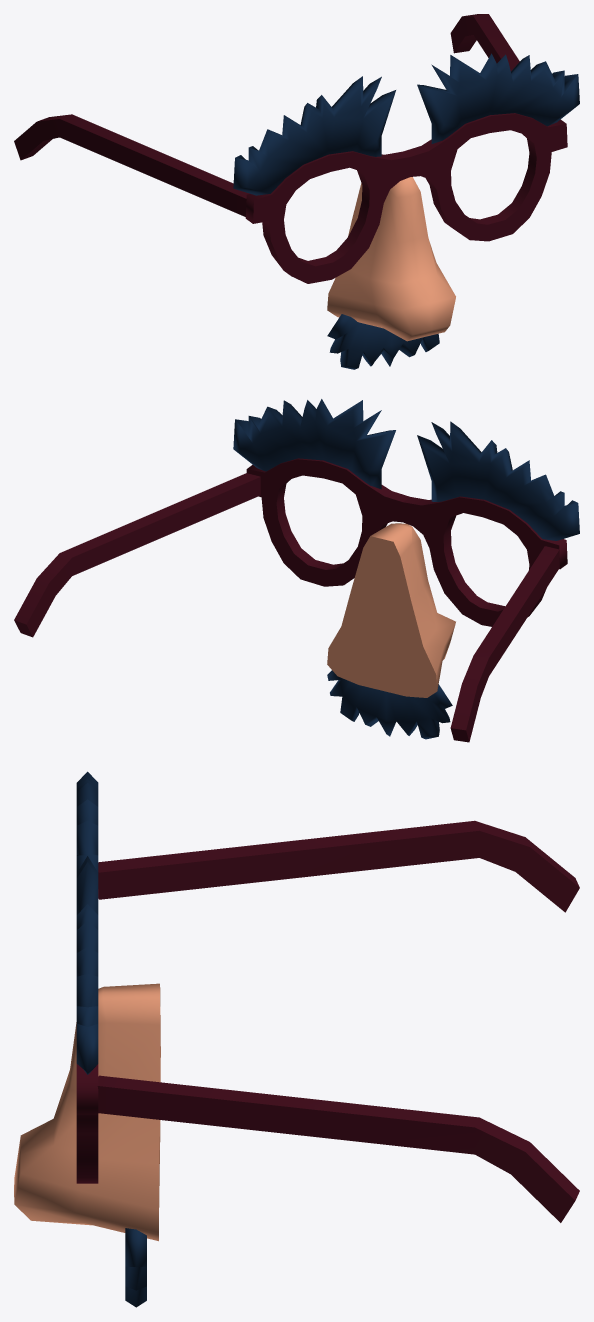
Rendered from Glasses_with_nose.fbx.
The picture shows the model from 3 angles, top to bottom: view 1: azimuth 30°, elevation 25°; view 2: azimuth 150°, elevation 25°; view 3: azimuth 270°, elevation 25°; orthographic projection. The views are drawn at different scales.
Visible parts, largest first — view 1: Glasses_with_nose.c, Glasses_stick_08, Glasses_stick_09; view 2: Glasses_with_nose.c, Glasses_stick_09, Glasses_stick_08; view 3: Glasses_with_nose.c, Glasses_stick_09, Glasses_stick_08.
Part boxes in pixels (box(x1,y1,x2,y2)): Glasses_with_nose.c: box(233, 53, 579, 369); Glasses_stick_08: box(14, 114, 249, 216); Glasses_stick_09: box(450, 14, 519, 71); Glasses_with_nose.c: box(233, 399, 579, 739); Glasses_stick_09: box(14, 473, 260, 637); Glasses_stick_08: box(450, 546, 559, 742); Glasses_with_nose.c: box(14, 771, 160, 1307); Glasses_stick_09: box(97, 1075, 579, 1222); Glasses_stick_08: box(98, 820, 579, 912).
Bounding box in the file's own units: 0.707 × 0.4693 × 0.5236.
